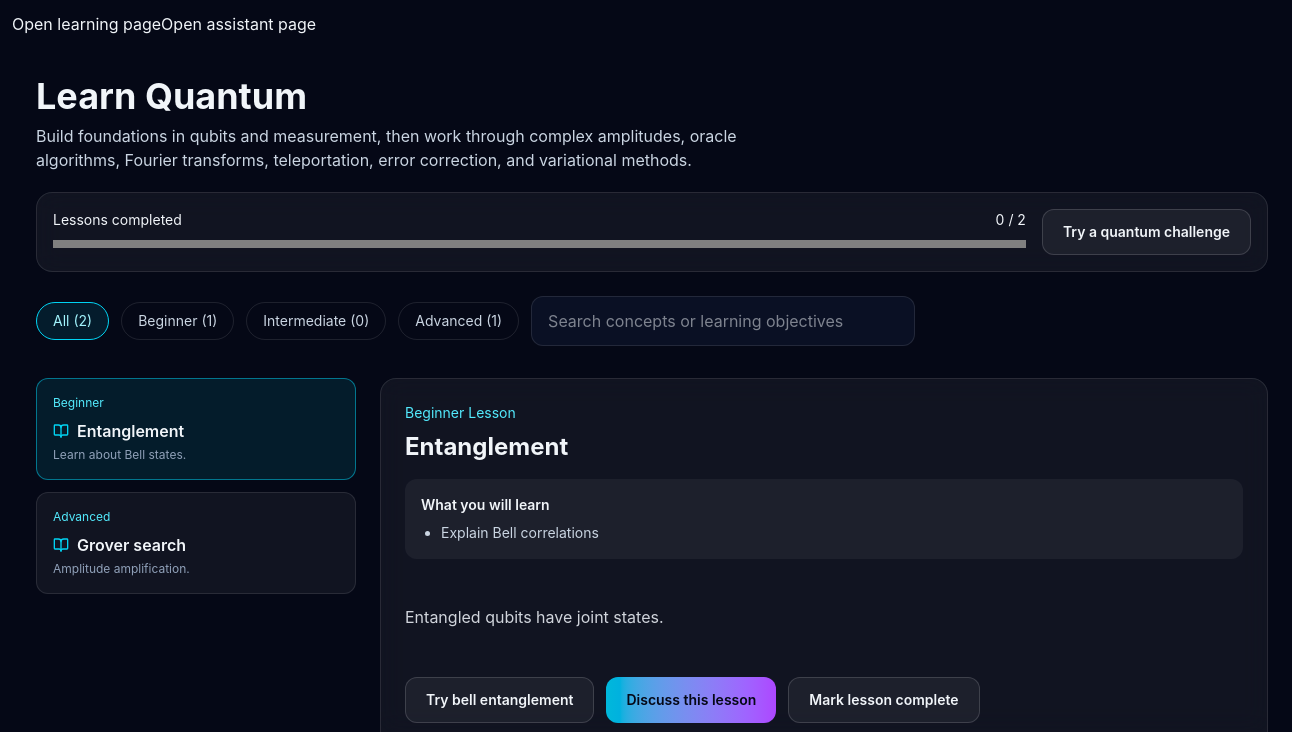
it: retries a failed automatic overview with its original lesson context
Click the link "Discuss this lesson" at (691, 700), box x1=606 y1=677 x2=776 y2=723
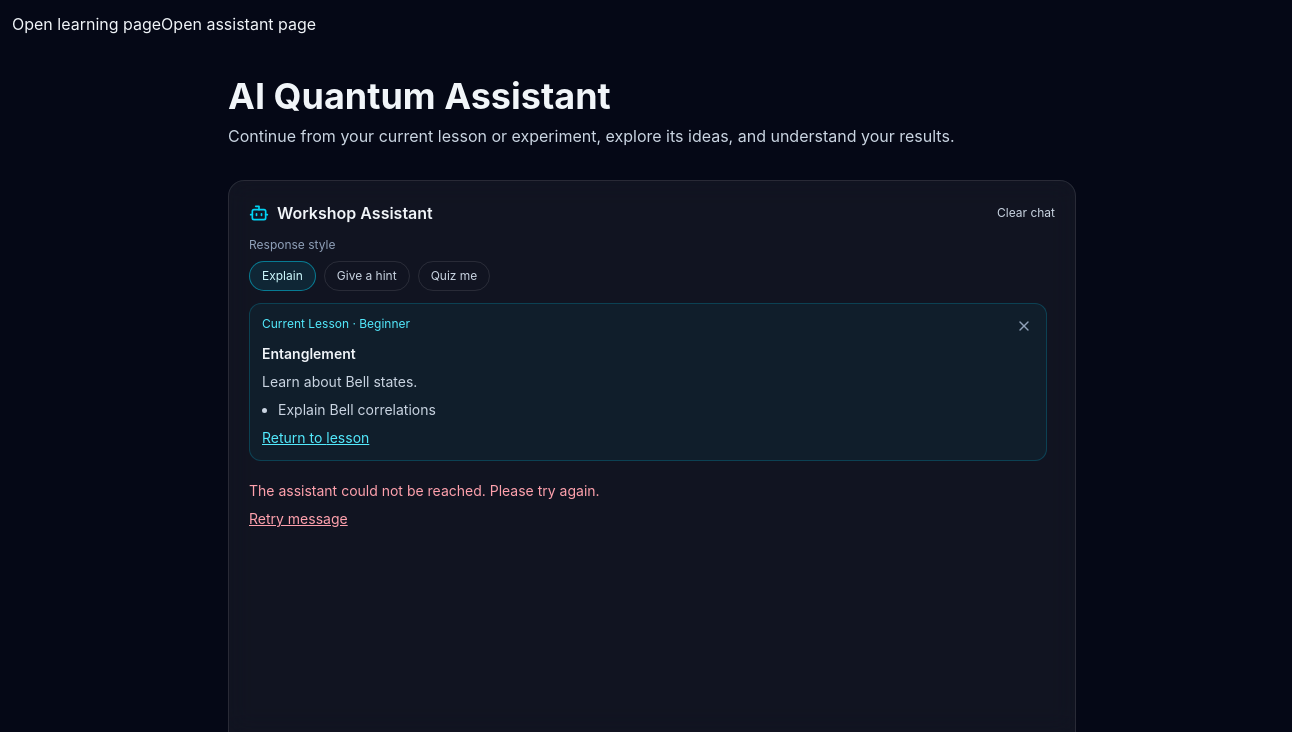
Expected: the message "The assistant could not be reached. Please try again. Retry message" is shown, x1=249 y1=482 x2=600 y2=529
Click the button "Retry message" at (298, 519), box x1=249 y1=509 x2=348 y2=529
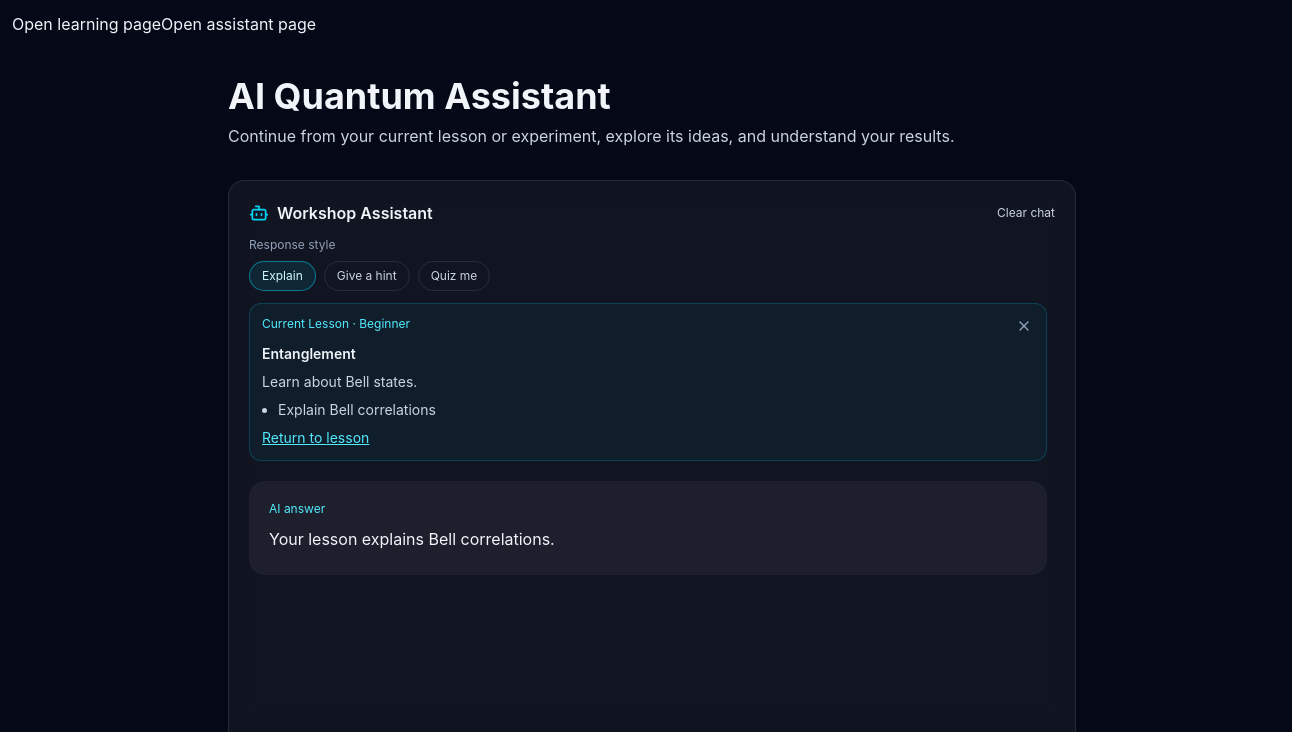
Expected: the text "Your lesson explains Bell correlations." is shown, x1=269 y1=529 x2=555 y2=549
